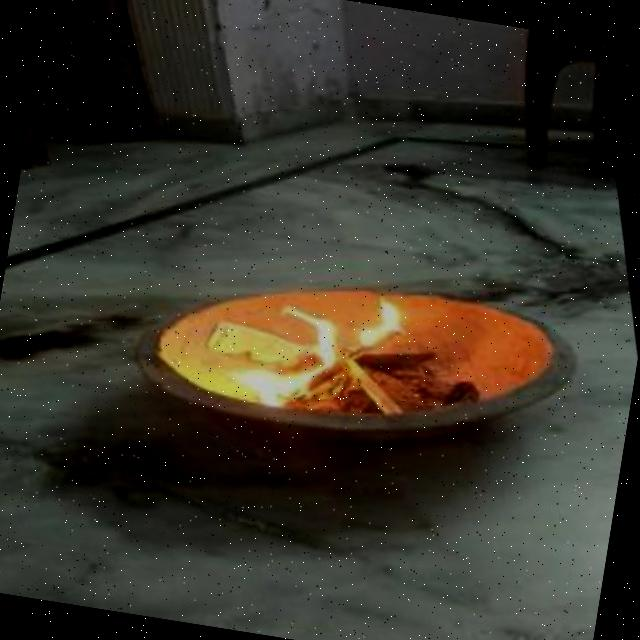fire: (189, 275, 415, 429)
